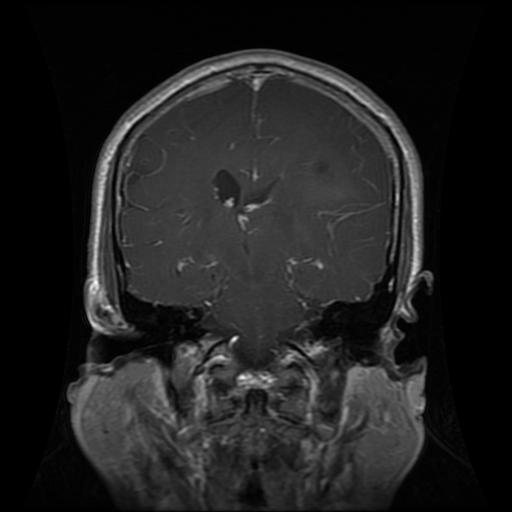Gliomia_tumour: (300, 151, 340, 187)
